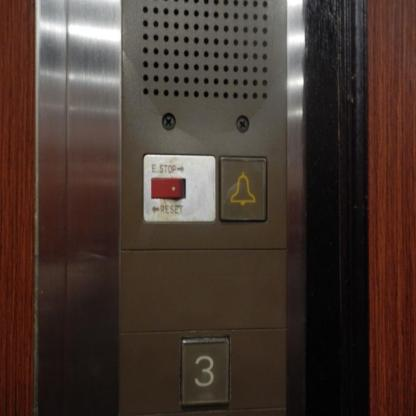3: (177, 336, 230, 408)
alarm: (217, 153, 267, 223)
switch: (141, 152, 217, 223)
